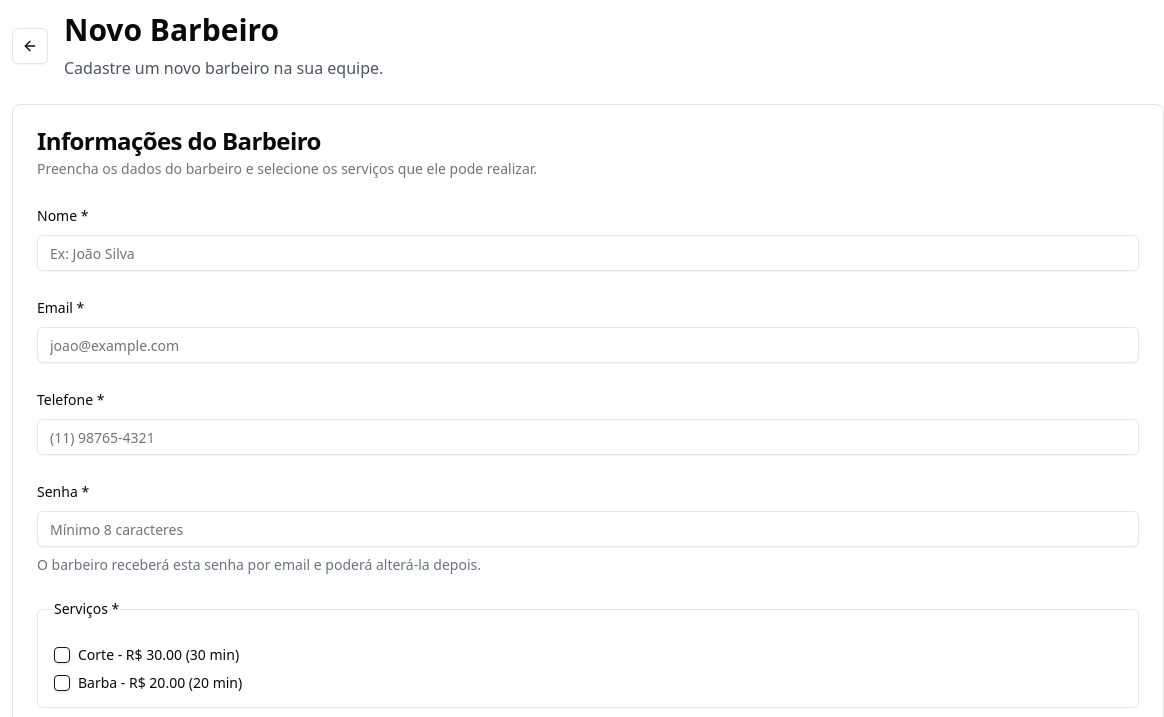
Test case: BarbeiroFormPage › Create Mode › should format phone number as user types
The width and height of the screenshot is (1164, 717).
Type "11987654321" into the field labelled "Telefone *" at [588, 437], box [37,419,1139,455]
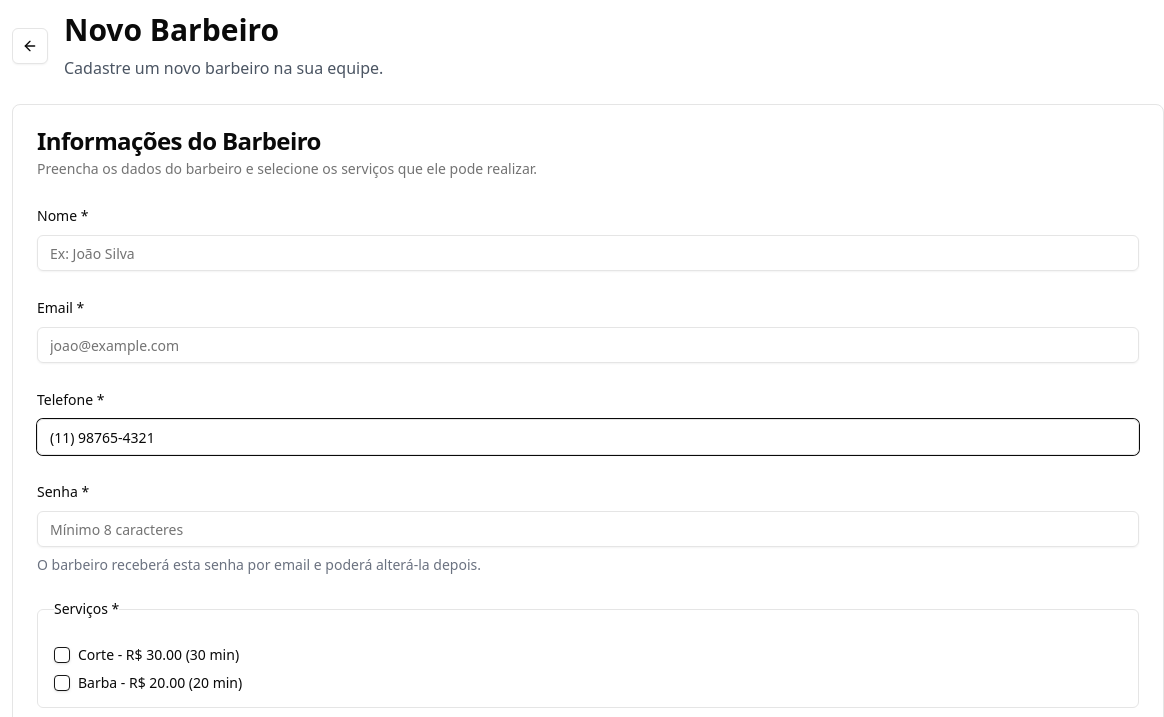
expect the field labelled "Telefone *" holds "(11) 98765-4321": met, box [37,419,1139,455]
